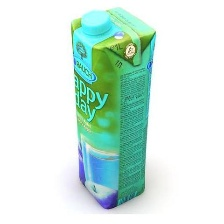carton: (68, 3, 157, 211)
